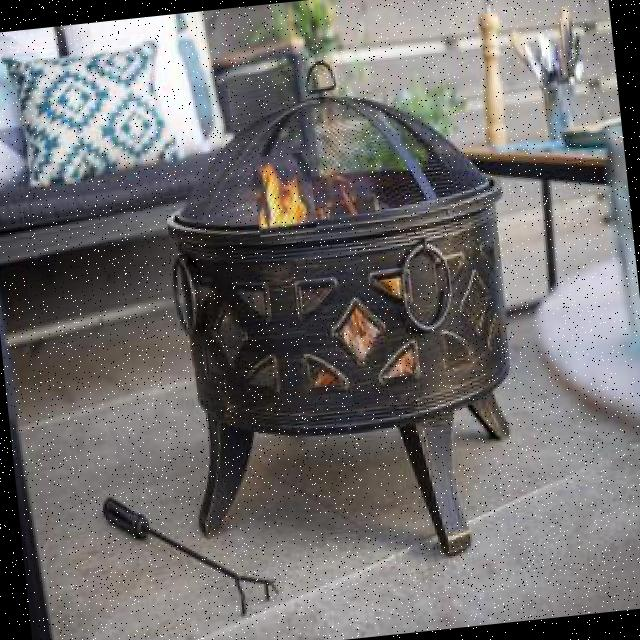fire: (252, 151, 316, 237)
